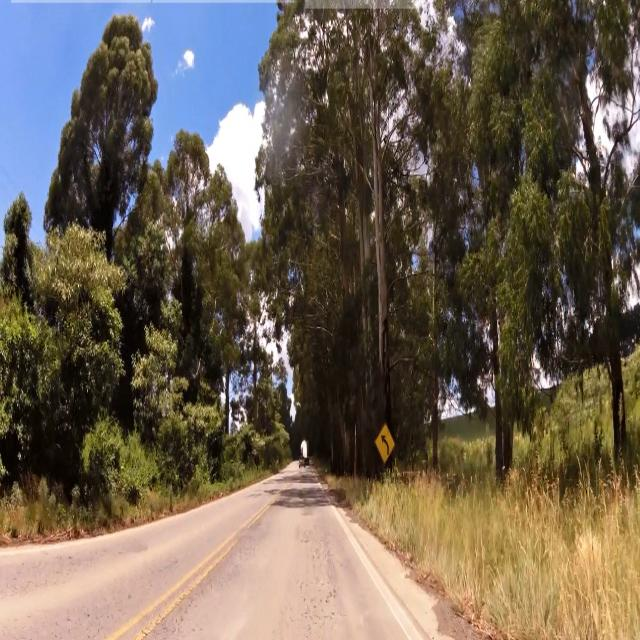A-2a: (374, 422, 396, 468)
